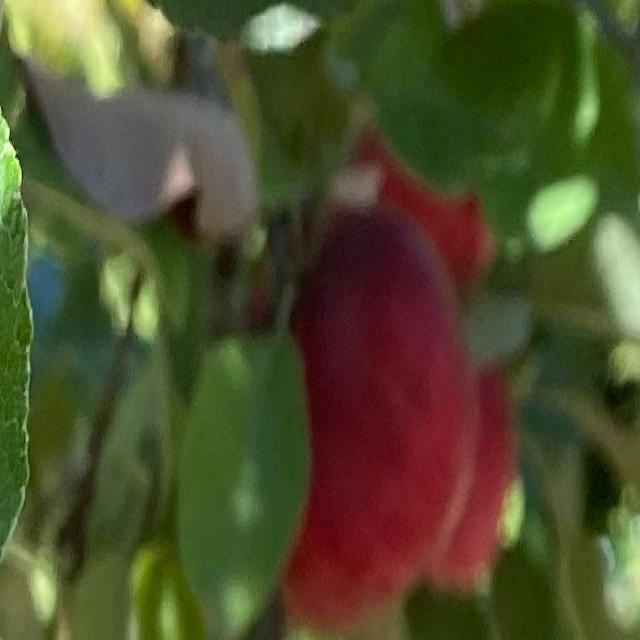Apples: (278, 208, 476, 629), (351, 126, 500, 276), (429, 356, 511, 592)
